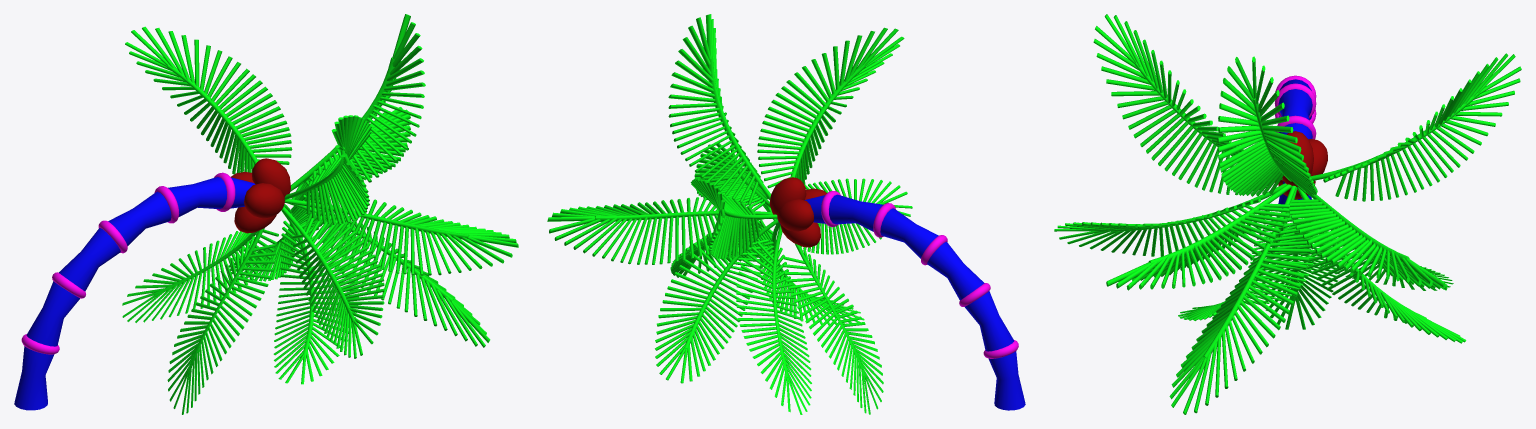
File: SM_Palmtree180.FBX
The picture shows the model from 3 angles, left to right: view 1: azimuth 30°, elevation 25°; view 2: azimuth 150°, elevation 25°; view 3: azimuth 270°, elevation 25°; orthographic projection. The views are drawn at different scales.
Visible parts, largest first — view 1: Cylinder011; view 2: Cylinder011; view 3: Cylinder011.
Boxes of the visible parts, x1,y1,x2,y2 form: Cylinder011: (14,14,518,414); Cylinder011: (547,14,1025,414); Cylinder011: (1054,14,1521,414).
Size of the model in its own units: 60.54 by 46.37 by 51.73.
